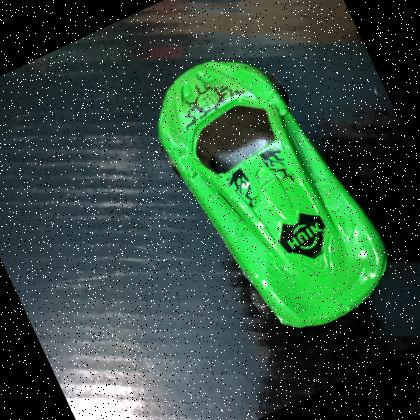Car: (131, 21, 409, 361)
